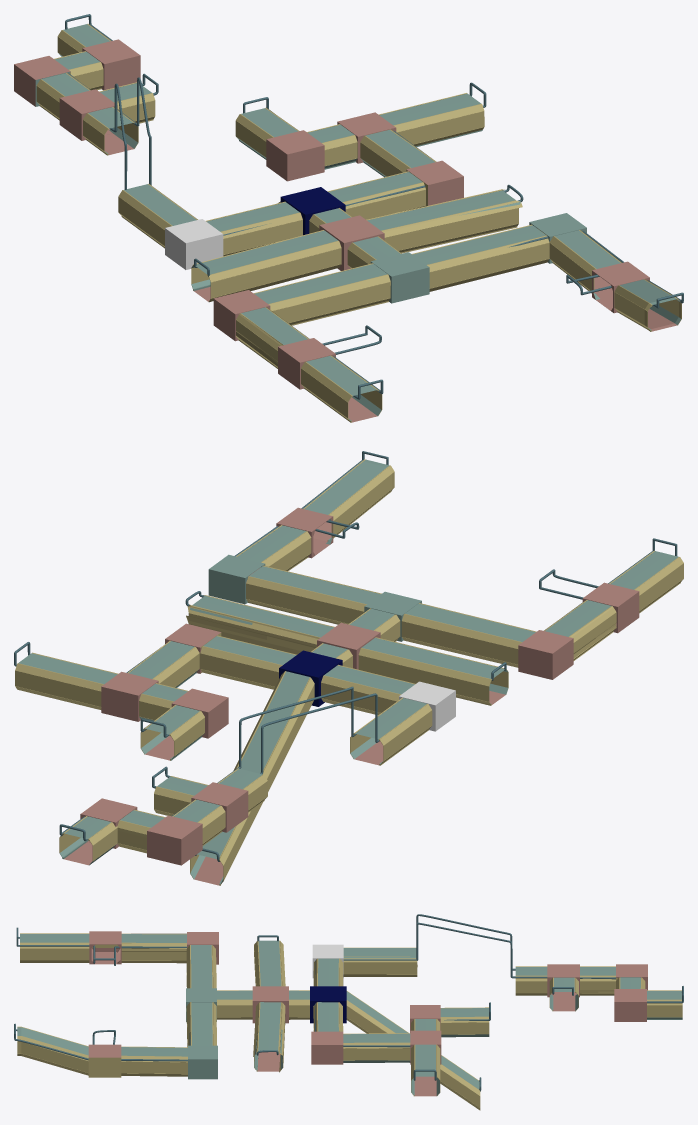
File: hallways_fixe (1).fbx
3 renders of one model, top to bottom at view 1: azimuth 30°, elevation 25°; view 2: azimuth 150°, elevation 25°; view 3: azimuth 270°, elevation 25°, orthographic. The views are drawn at different scales.
Parts seen in each view (by area): view 1: hallway.013, hallway.011, hallway.010, hallway.012, hallway.021, save, hallway.016, hallway.008, hallway.009, hallway.007, hallway.014, hallway.015 (+24 smaller); view 2: hallway.019, hallway.013, hallway.012, hallway.010, hallway.011, hallway.021, hallway.015, save, hallway.007, hallway.009, hallway.008, hallway.022 (+25 smaller); view 3: save, hallway.019, hallway.007, hallway.011, hallway.015, hallway.016, hallway.005, hallway.014, hallway.017, hallway.021, hallway.022, hallway.013 (+26 smaller).
Part boxes in pixels (x1,y1,x2,y2): hallway.013: (191,230,341,302); hallway.011: (366,189,522,253); hallway.010: (412,224,549,291); hallway.012: (254,263,390,325); hallway.021: (378,93,484,146); save: (65,14,683,399); hallway.016: (301,355,382,422); hallway.008: (206,201,302,256); hallway.009: (327,171,425,219); hallway.007: (118,184,197,248); hallway.014: (549,230,621,295); hallway.015: (614,279,681,331); hallway.019: (190,671,314,885); hallway.013: (358,637,508,705); hallway.012: (401,603,536,667); hallway.010: (246,565,381,624); hallway.011: (186,595,334,654); hallway.021: (15,652,118,709); hallway.015: (303,459,394,541); save: (14,451,677,861); hallway.007: (350,697,432,765); hallway.009: (199,635,296,689); hallway.008: (321,664,415,715); hallway.022: (140,705,204,760); save: (14,914,683,1091); hallway.019: (346,991,480,1110); hallway.007: (343,947,417,976); hallway.011: (253,1002,285,1072); hallway.015: (17,1026,88,1075); hallway.016: (20,933,89,962); hallway.005: (343,1033,410,1062); hallway.014: (121,1046,187,1076); hallway.017: (121,933,186,963); hallway.021: (411,1044,440,1096); hallway.022: (440,1007,489,1037); hallway.013: (254,940,285,986).
Bounding box in the file's own units: 9264 × 4280 × 17874.
